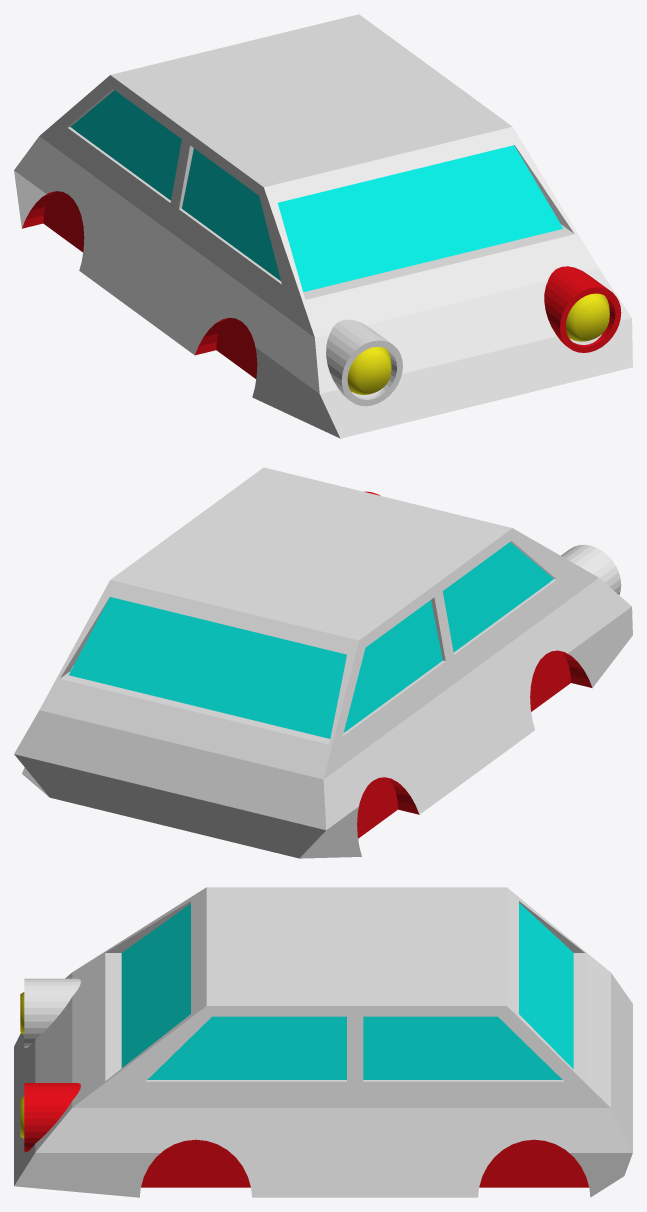
File: carro.fbx
3 views of the same model, one above another, from view 1: azimuth 30°, elevation 25°; view 2: azimuth 150°, elevation 25°; view 3: azimuth 270°, elevation 25° (orthographic). The views are drawn at different scales.
Parts seen in each view (by area): view 1: Cylinder.003, Cylinder.004, Cylinder.001; view 2: Cylinder.003; view 3: Cylinder.003.
Part boxes in pixels (x1,y1,x2,y2): Cylinder.003: [14, 14, 632, 438]; Cylinder.004: [566, 293, 609, 341]; Cylinder.001: [347, 347, 391, 394]; Cylinder.003: [14, 467, 632, 858]; Cylinder.003: [14, 887, 632, 1197].
Size of the model in its own units: 479 by 771 by 234.
